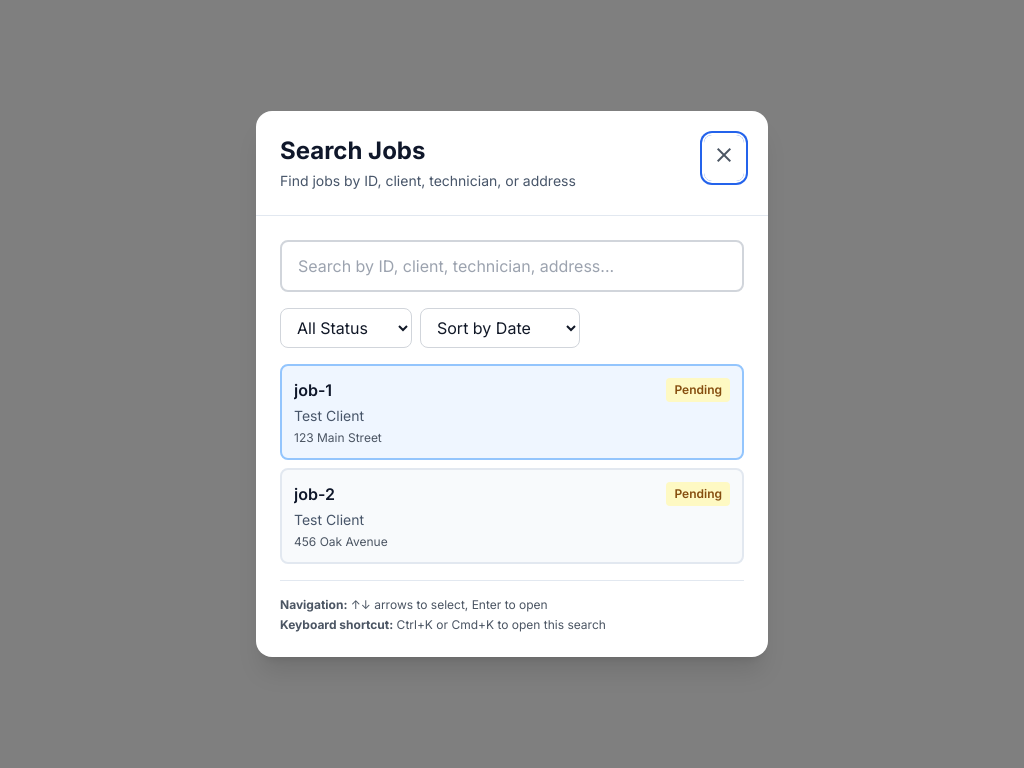
Test case: QuickSearchModal › searches by address
The width and height of the screenshot is (1024, 768).
Type "Main" into the field with placeholder "Search by ID, client, technician, address...".
click(512, 266); type("Main")  # box top-left (280, 240), bottom-right (744, 292)
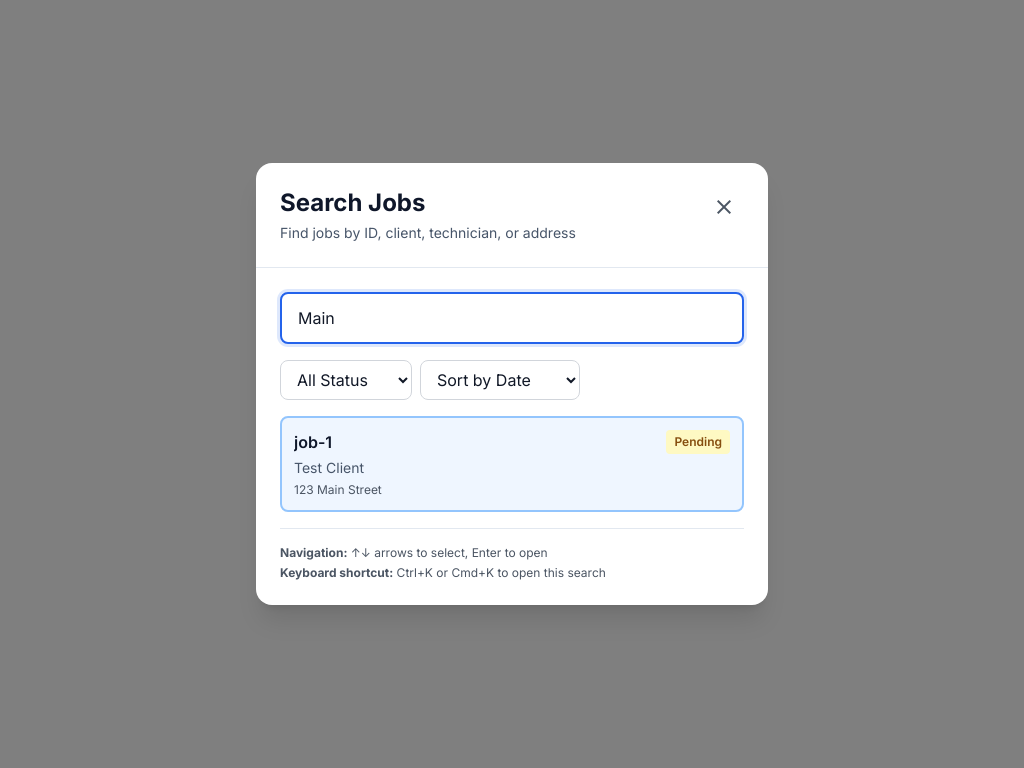
Expected: the text "123 Main Street" is shown, top-left (294, 482), bottom-right (382, 497)
Expected: the button "456 Oak Avenue" is gone
